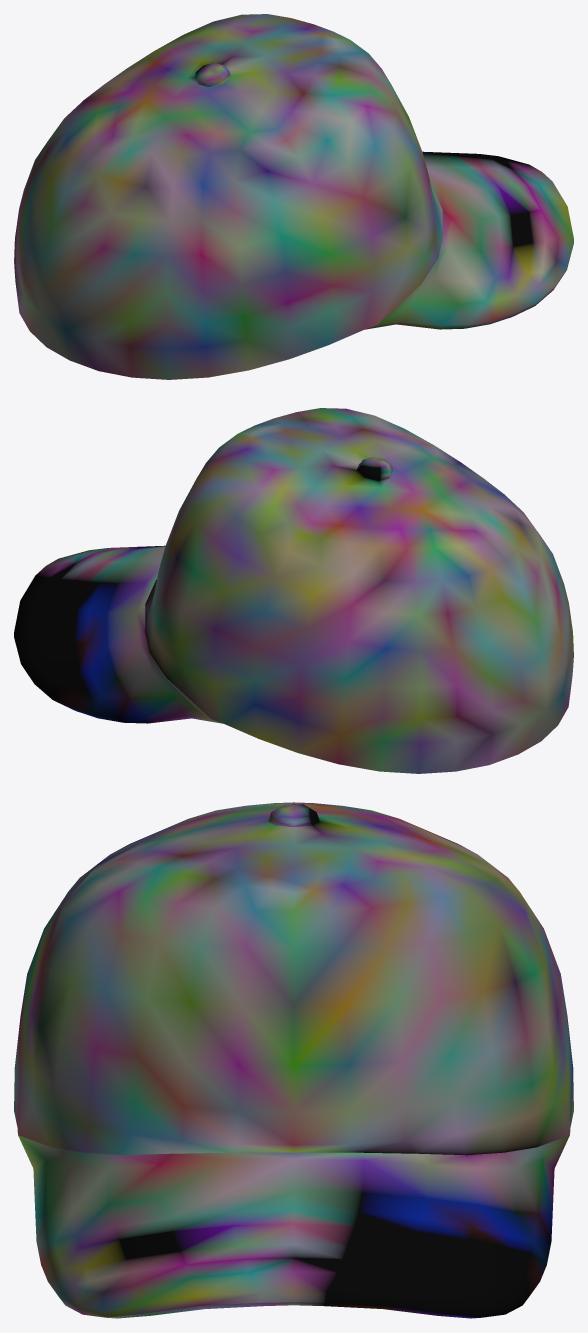
Rendered from Hat_TruckerHat_SM.gltf.
3 renders of one model, top to bottom at view 1: azimuth 30°, elevation 25°; view 2: azimuth 150°, elevation 25°; view 3: azimuth 270°, elevation 25°, orthographic. The views are drawn at different scales.
Visible parts, largest first — view 1: Hat_TruckerHat_SM; view 2: Hat_TruckerHat_SM; view 3: Hat_TruckerHat_SM.
Boxes of the visible parts, bbox=[...] form: Hat_TruckerHat_SM: bbox=[14, 14, 573, 379]; Hat_TruckerHat_SM: bbox=[14, 408, 573, 773]; Hat_TruckerHat_SM: bbox=[14, 802, 573, 1318].
Size of the model in its own units: 0.3616 by 0.1652 by 0.2489.
